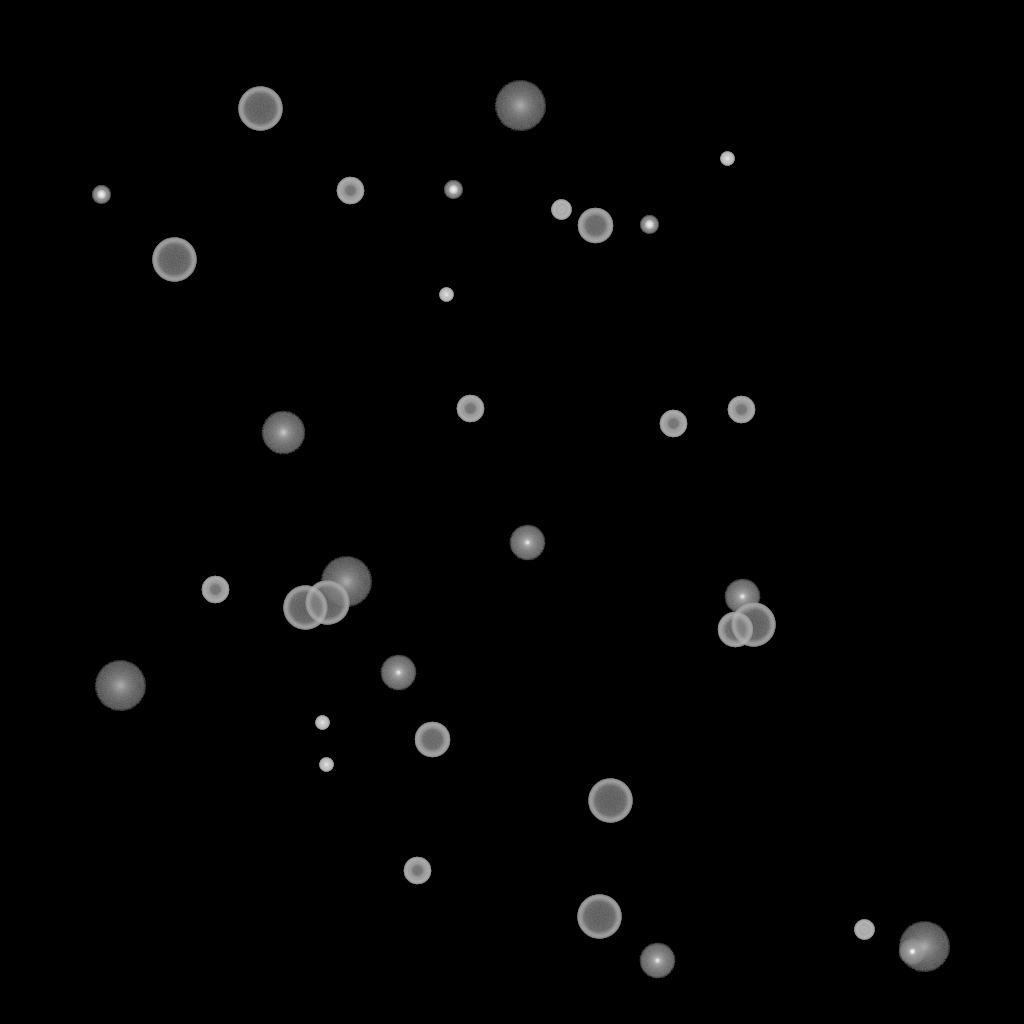depth:-10: (898, 938, 926, 966)
depth:-20: (92, 186, 110, 204), (640, 216, 658, 234), (444, 181, 462, 199)
depth:-30: (720, 152, 734, 166), (319, 758, 333, 772), (315, 716, 329, 730), (439, 288, 453, 302)
depth:-40: (854, 920, 874, 940), (551, 200, 571, 220)
depth:-50: (336, 177, 364, 205), (403, 857, 431, 885), (727, 396, 755, 424), (456, 395, 484, 423), (201, 576, 229, 604), (659, 410, 687, 438)
depth:-60: (414, 722, 450, 758), (717, 612, 753, 648), (577, 208, 613, 244)
depth:-70: (152, 238, 196, 282), (283, 586, 327, 630), (238, 87, 282, 131), (731, 603, 775, 647), (577, 895, 621, 939), (588, 779, 632, 823), (305, 581, 349, 625)
depth:0: (724, 579, 760, 615), (639, 943, 675, 979), (509, 525, 545, 561), (380, 655, 416, 691)
depth:10: (261, 411, 305, 455)
depth:20: (494, 81, 546, 131), (320, 557, 372, 607), (898, 922, 950, 972), (94, 661, 146, 711)
